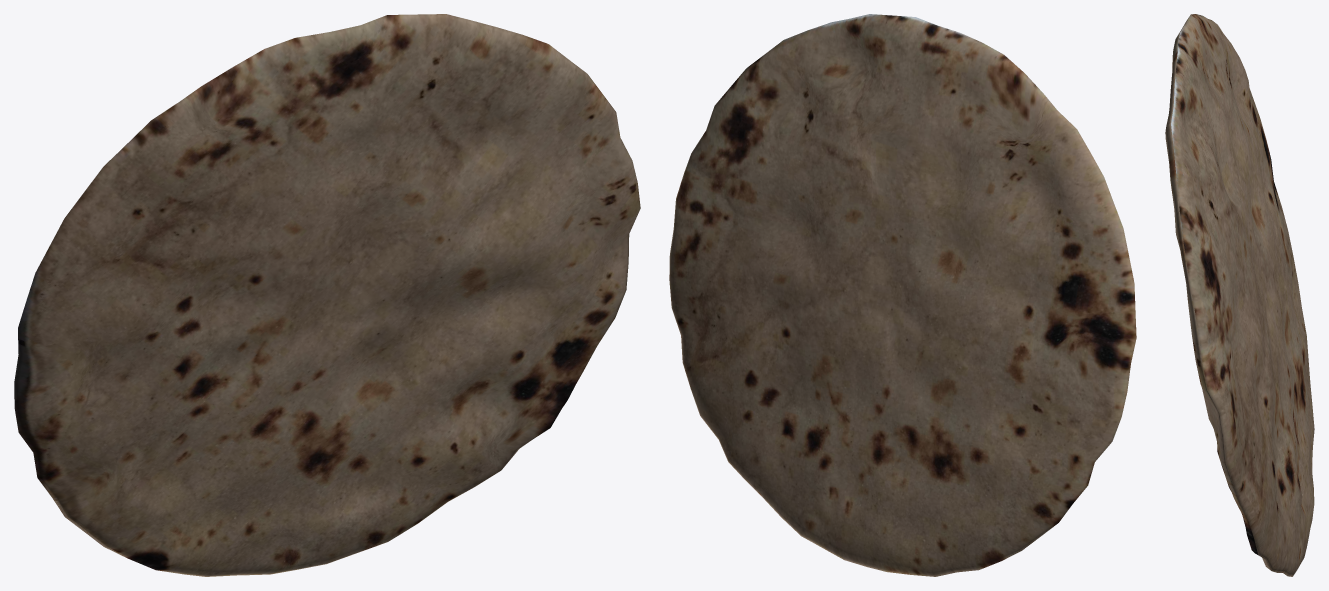
Rendered from chappati.glb.
The picture shows the model from 3 angles, left to right: view 1: azimuth 30°, elevation 25°; view 2: azimuth 150°, elevation 25°; view 3: azimuth 270°, elevation 25°; orthographic projection. The views are drawn at different scales.
Parts seen in each view (by area): view 1: Cylinder.001; view 2: Cylinder.001; view 3: Cylinder.001.
Boxes of the visible parts, x1,y1,x2,y2 form: Cylinder.001: (14,14,640,576); Cylinder.001: (669,14,1136,576); Cylinder.001: (1165,14,1314,576).
Bounding box in the file's own units: 3.97 × 3.89 × 1.04.
Materials: 1 (1 with a texture image).
